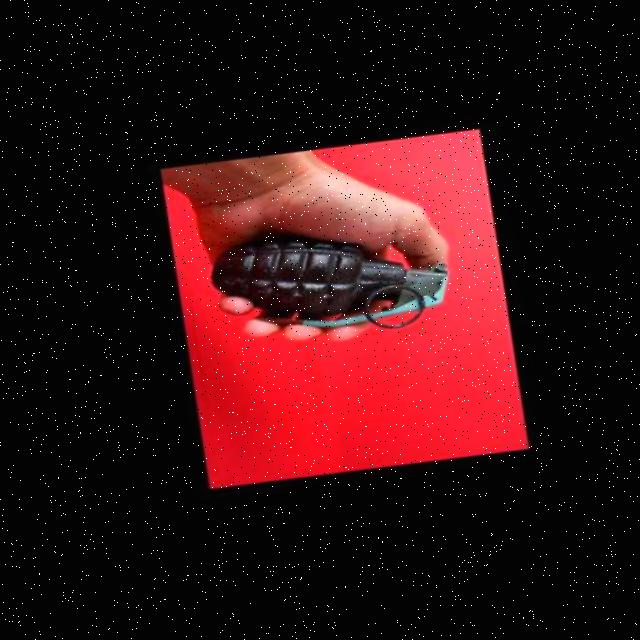grenade: (173, 183, 475, 380)
